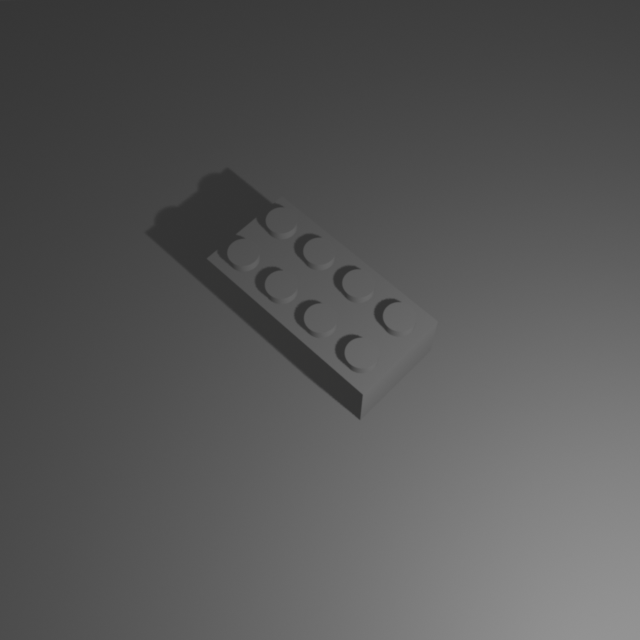lego_2x4: (205, 190, 439, 420)
